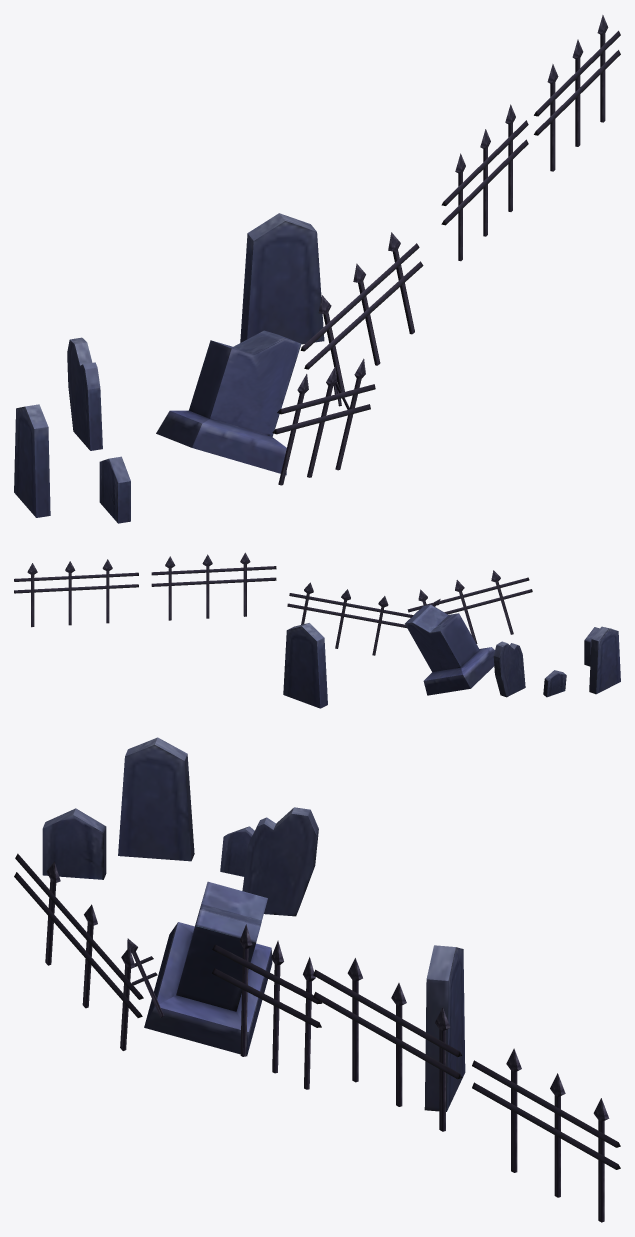
The model's file is Area12_2.fbx.
3 renders of one model, top to bottom at view 1: azimuth 30°, elevation 25°; view 2: azimuth 150°, elevation 25°; view 3: azimuth 270°, elevation 25°, orthographic. The views are drawn at different scales.
Visible parts, largest first — view 1: Area12_2; view 2: Area12_2; view 3: Area12_2.
Part boxes in pixels (x1,y1,x2,y2): Area12_2: (14,15,620,523); Area12_2: (14,552,620,708); Area12_2: (14,737,620,1222).
Bounding box in the file's own units: 3376 × 852 × 1923.
